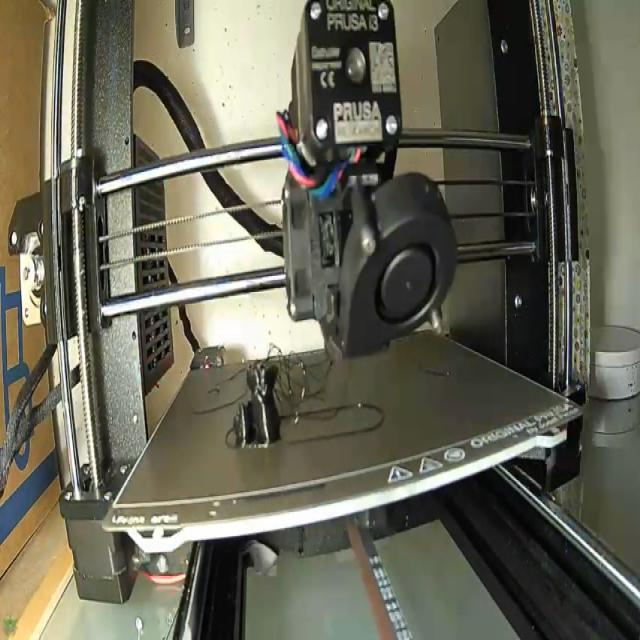spaghetti: (268, 328, 342, 414)
